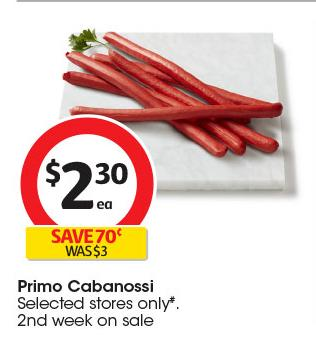description_block: (9, 276, 178, 295)
price_main: (15, 136, 152, 228)
product_image_block: (70, 18, 296, 192)
promo_text_block: (18, 224, 159, 269)
